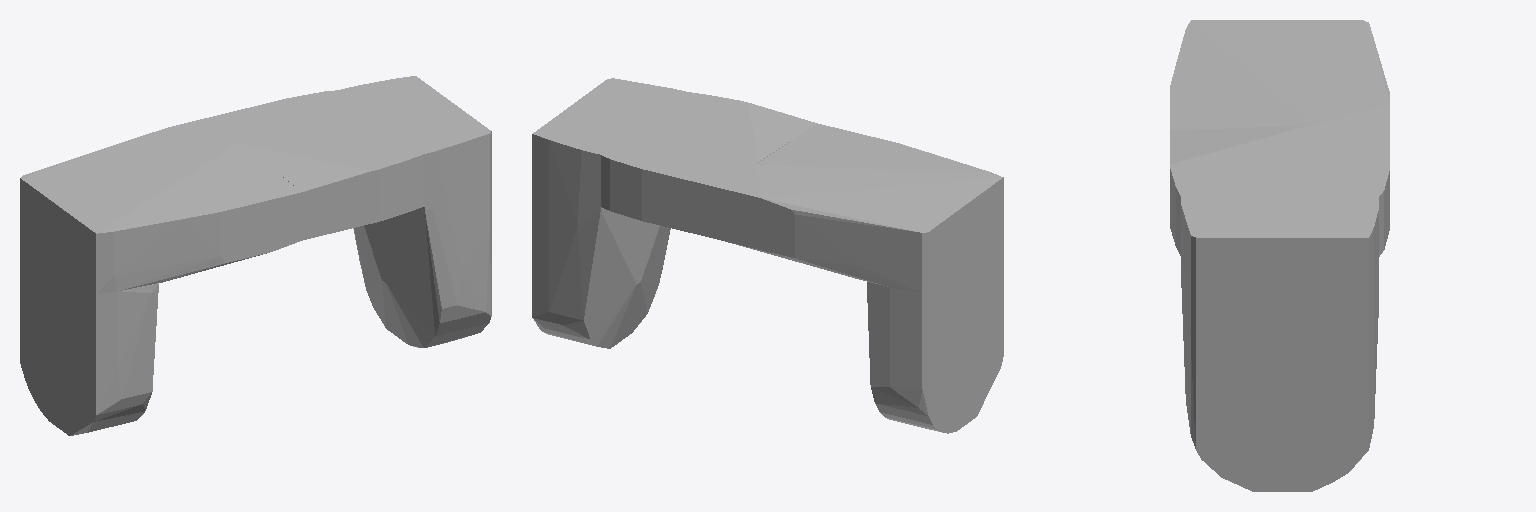
URDF robot description (root):
<robot name="root">
  <link name="link_thingiverse~part_4323146_convex_piece_0">
    <inertial>
      <origin rpy="0 0 0" xyz="0 0 0"/>
      <mass value="6.56E-02"/>
      <inertia ixx="3.18E-05" ixy="7.22E-07" ixz="4.69E-05" iyy="1.52E-04" iyz="2.25E-07" izz="1.33E-04"/>
    </inertial>
    <visual>
      <origin rpy="0 0 0" xyz="0 0 0"/>
      <geometry>
        <mesh filename="thingiverse~part_4323146_convex_piece_0.obj" scale="1.0000E+00 1.0000E+00 1.0000E+00"/>
      </geometry>
      <material name="">
        <color rgba="7.50E-01 7.50E-01 7.50E-01 1"/>
      </material>
    </visual>
    <collision>
      <origin rpy="0 0 0" xyz="0 0 0"/>
      <geometry>
        <mesh filename="thingiverse~part_4323146_convex_piece_0.obj" scale="1.0000E+00 1.0000E+00 1.0000E+00"/>
      </geometry>
    </collision>
  </link>
  <link name="link_thingiverse~part_4323146_convex_piece_1">
    <inertial>
      <origin rpy="0 0 0" xyz="0 0 0"/>
      <mass value="9.15E-02"/>
      <inertia ixx="2.45E-05" ixy="3.92E-07" ixz="-2.42E-05" iyy="9.26E-05" iyz="6.01E-08" izz="9.37E-05"/>
    </inertial>
    <visual>
      <origin rpy="0 0 0" xyz="0 0 0"/>
      <geometry>
        <mesh filename="thingiverse~part_4323146_convex_piece_1.obj" scale="1.0000E+00 1.0000E+00 1.0000E+00"/>
      </geometry>
      <material name="">
        <color rgba="7.50E-01 7.50E-01 7.50E-01 1"/>
      </material>
    </visual>
    <collision>
      <origin rpy="0 0 0" xyz="0 0 0"/>
      <geometry>
        <mesh filename="thingiverse~part_4323146_convex_piece_1.obj" scale="1.0000E+00 1.0000E+00 1.0000E+00"/>
      </geometry>
    </collision>
  </link>
  <joint name="link_thingiverse~part_4323146_convex_piece_1_joint" type="fixed">
    <origin rpy="0 0 0" xyz="0 0 0"/>
    <parent link="link_thingiverse~part_4323146_convex_piece_0"/>
    <child link="link_thingiverse~part_4323146_convex_piece_1"/>
  </joint>
  <link name="link_thingiverse~part_4323146_convex_piece_2">
    <inertial>
      <origin rpy="0 0 0" xyz="0 0 0"/>
      <mass value="5.54E-02"/>
      <inertia ixx="1.69E-05" ixy="3.57E-08" ixz="1.05E-05" iyy="2.78E-05" iyz="6.41E-08" izz="2.77E-05"/>
    </inertial>
    <visual>
      <origin rpy="0 0 0" xyz="0 0 0"/>
      <geometry>
        <mesh filename="thingiverse~part_4323146_convex_piece_2.obj" scale="1.0000E+00 1.0000E+00 1.0000E+00"/>
      </geometry>
      <material name="">
        <color rgba="7.50E-01 7.50E-01 7.50E-01 1"/>
      </material>
    </visual>
    <collision>
      <origin rpy="0 0 0" xyz="0 0 0"/>
      <geometry>
        <mesh filename="thingiverse~part_4323146_convex_piece_2.obj" scale="1.0000E+00 1.0000E+00 1.0000E+00"/>
      </geometry>
    </collision>
  </link>
  <joint name="link_thingiverse~part_4323146_convex_piece_2_joint" type="fixed">
    <origin rpy="0 0 0" xyz="0 0 0"/>
    <parent link="link_thingiverse~part_4323146_convex_piece_1"/>
    <child link="link_thingiverse~part_4323146_convex_piece_2"/>
  </joint>
  <link name="link_thingiverse~part_4323146_convex_piece_3">
    <inertial>
      <origin rpy="0 0 0" xyz="0 0 0"/>
      <mass value="1.05E-01"/>
      <inertia ixx="3.99E-05" ixy="7.81E-07" ixz="-3.12E-05" iyy="2.23E-04" iyz="-2.21E-07" izz="2.06E-04"/>
    </inertial>
    <visual>
      <origin rpy="0 0 0" xyz="0 0 0"/>
      <geometry>
        <mesh filename="thingiverse~part_4323146_convex_piece_3.obj" scale="1.0000E+00 1.0000E+00 1.0000E+00"/>
      </geometry>
      <material name="">
        <color rgba="7.50E-01 7.50E-01 7.50E-01 1"/>
      </material>
    </visual>
    <collision>
      <origin rpy="0 0 0" xyz="0 0 0"/>
      <geometry>
        <mesh filename="thingiverse~part_4323146_convex_piece_3.obj" scale="1.0000E+00 1.0000E+00 1.0000E+00"/>
      </geometry>
    </collision>
  </link>
  <joint name="link_thingiverse~part_4323146_convex_piece_3_joint" type="fixed">
    <origin rpy="0 0 0" xyz="0 0 0"/>
    <parent link="link_thingiverse~part_4323146_convex_piece_2"/>
    <child link="link_thingiverse~part_4323146_convex_piece_3"/>
  </joint>
</robot>

--- Facts derived from the render (not from the file) ---
Views: 3 orthographic renders of the robot side by side, from view 1: azimuth 30°, elevation 25°; view 2: azimuth 150°, elevation 25°; view 3: azimuth 270°, elevation 25°.
Model root with 4 links and 3 joints (3 fixed), rooted at link_thingiverse~part_4323146_convex_piece_0, posed all joints at 0.
Visible links, largest first — view 1: link_thingiverse~part_4323146_convex_piece_1, link_thingiverse~part_4323146_convex_piece_3, link_thingiverse~part_4323146_convex_piece_0, link_thingiverse~part_4323146_convex_piece_2; view 2: link_thingiverse~part_4323146_convex_piece_1, link_thingiverse~part_4323146_convex_piece_3, link_thingiverse~part_4323146_convex_piece_0, link_thingiverse~part_4323146_convex_piece_2; view 3: link_thingiverse~part_4323146_convex_piece_3, link_thingiverse~part_4323146_convex_piece_1, link_thingiverse~part_4323146_convex_piece_2.
Boxes of the visible links, x1=… form: link_thingiverse~part_4323146_convex_piece_1: x1=20, y1=118, x2=301, y2=293; link_thingiverse~part_4323146_convex_piece_3: x1=338, y1=76, x2=491, y2=347; link_thingiverse~part_4323146_convex_piece_0: x1=20, y1=239, x2=158, y2=435; link_thingiverse~part_4323146_convex_piece_2: x1=207, y1=90, x2=424, y2=240; link_thingiverse~part_4323146_convex_piece_1: x1=722, y1=123, x2=1003, y2=292; link_thingiverse~part_4323146_convex_piece_3: x1=532, y1=78, x2=685, y2=348; link_thingiverse~part_4323146_convex_piece_0: x1=867, y1=237, x2=1003, y2=433; link_thingiverse~part_4323146_convex_piece_2: x1=601, y1=92, x2=816, y2=240; link_thingiverse~part_4323146_convex_piece_3: x1=1181, y1=197, x2=1378, y2=491; link_thingiverse~part_4323146_convex_piece_1: x1=1170, y1=20, x2=1389, y2=129; link_thingiverse~part_4323146_convex_piece_2: x1=1170, y1=126, x2=1389, y2=256.
Size in the robot's own frame: 0.1036 by 0.0433 by 0.0564 metres.
Meshes: 4 distinct files referenced, 4 mesh visuals loaded (4 OBJ).
